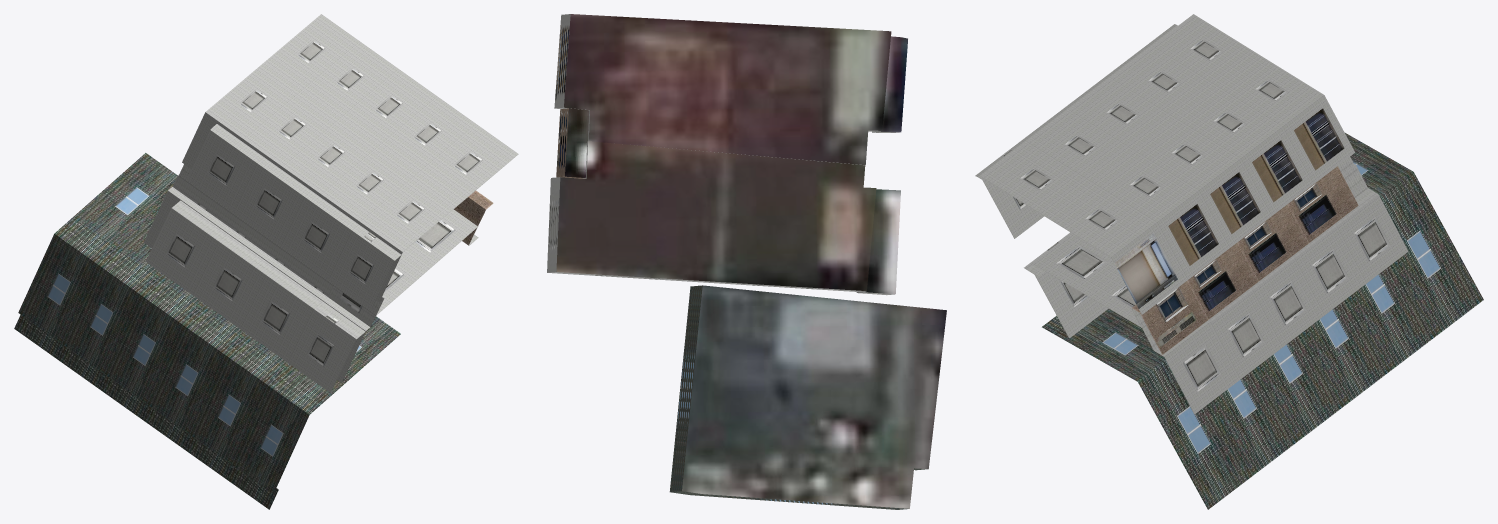
3 renders of one model, left to right at view 1: azimuth 30°, elevation 25°; view 2: azimuth 150°, elevation 25°; view 3: azimuth 270°, elevation 25°, orthographic. The views are drawn at different scales.
Size of the model in its own units: 27.45 by 26.85 by 28.17.
Materials: 24 (24 with a texture image).
